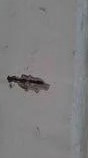Exposed reinforcement: (7, 76, 44, 86)
Spalling: (6, 73, 51, 94)
